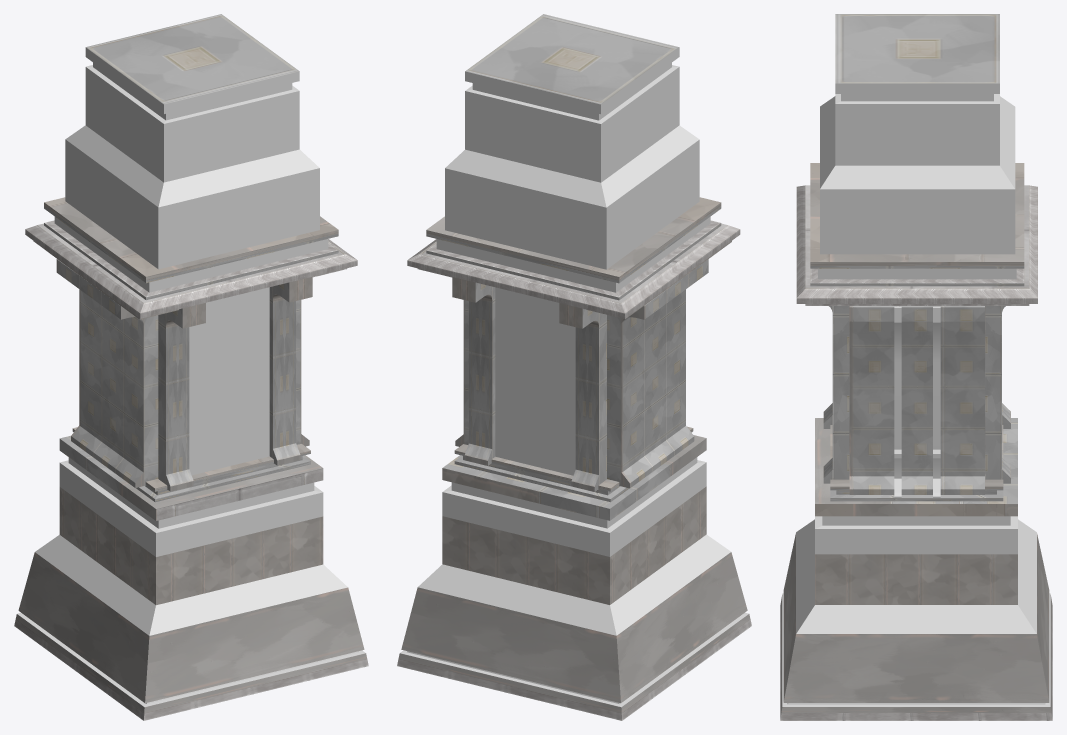
File: GreekTower.fbx
The picture shows the model from 3 angles, left to right: view 1: azimuth 30°, elevation 25°; view 2: azimuth 150°, elevation 25°; view 3: azimuth 270°, elevation 25°; orthographic projection. The views are drawn at different scales.
Parts seen in each view (by area): view 1: GreekTower; view 2: GreekTower; view 3: GreekTower.
Boxes of the visible parts, x1=… form: GreekTower: x1=14, y1=14, x2=368, y2=720; GreekTower: x1=397, y1=14, x2=751, y2=720; GreekTower: x1=780, y1=14, x2=1052, y2=720.
Bounding box in the file's own units: 2811 × 6999 × 2807.
